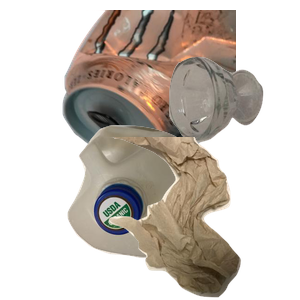glass: (166, 54, 300, 189)
metal: (60, 10, 300, 175)
plastic: (65, 123, 257, 300)
trash: (103, 137, 300, 300)
